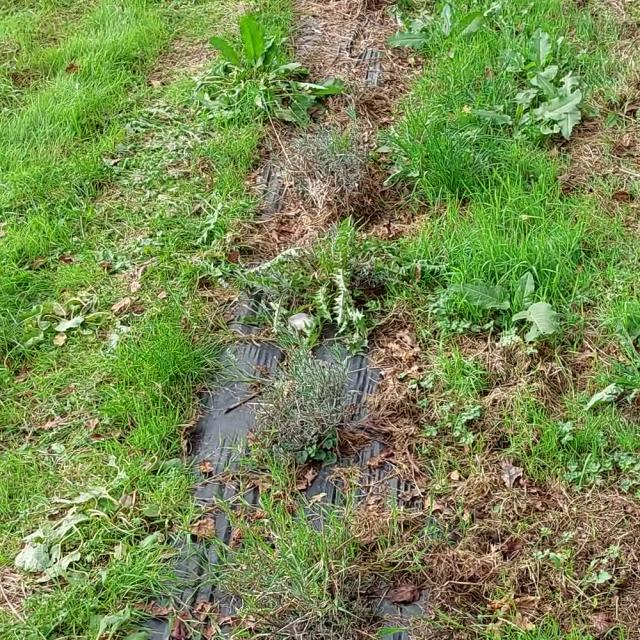organic waste: (12, 478, 171, 602), (190, 0, 327, 133), (453, 251, 563, 354), (374, 0, 498, 70), (512, 70, 612, 152), (496, 20, 582, 86), (43, 282, 123, 346), (576, 358, 640, 431)
